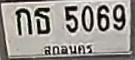0: (81, 4, 93, 31)
5: (64, 5, 77, 32)
6: (97, 4, 108, 30)
9: (112, 3, 124, 30)
A01: (15, 7, 31, 35)
A24: (34, 7, 49, 33)
SNK: (40, 40, 94, 57)
